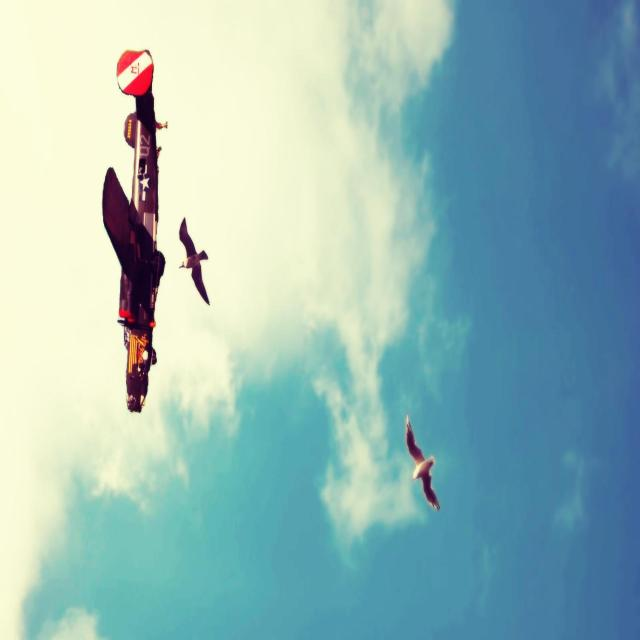airplane: (101, 48, 170, 419)
